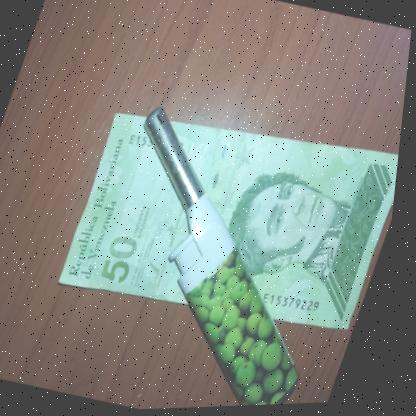vef_front: (56, 86, 408, 358)
